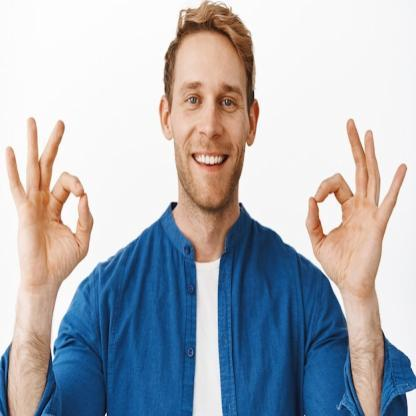ok: (305, 114, 408, 294), (3, 112, 95, 287)
